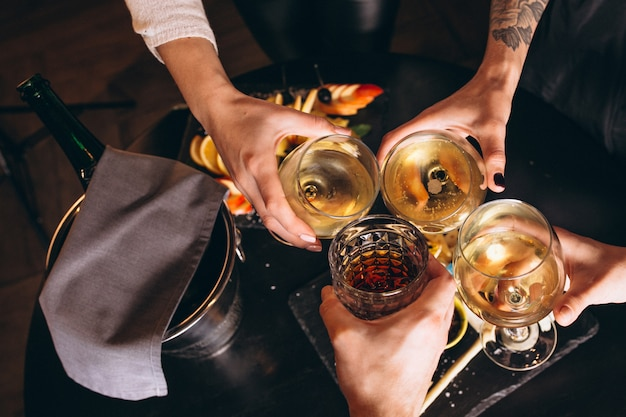alcohol: (453, 197, 570, 377), (12, 70, 118, 203), (269, 120, 382, 239), (329, 213, 436, 325), (378, 127, 484, 239)
